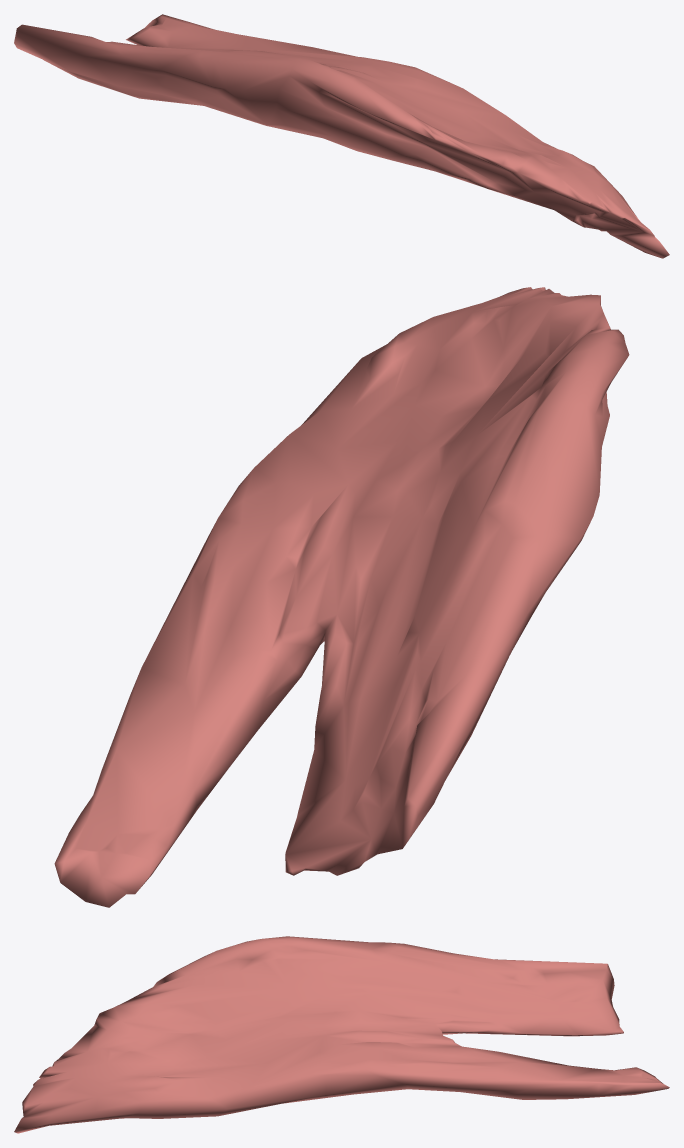
The picture shows the model from 3 angles, top to bottom: view 1: azimuth 30°, elevation 25°; view 2: azimuth 150°, elevation 25°; view 3: azimuth 270°, elevation 25°; orthographic projection. The views are drawn at different scales.
Visible parts, largest first — view 1: ZA_1233f9afe8dba9e7; view 2: ZA_1233f9afe8dba9e7; view 3: ZA_1233f9afe8dba9e7.
Boxes of the visible parts, x1,y1,x2,y2 form: ZA_1233f9afe8dba9e7: (14,14,669,258); ZA_1233f9afe8dba9e7: (54,287,629,907); ZA_1233f9afe8dba9e7: (14,936,669,1133).
Size of the model in its own units: 0.0356 by 0.017 by 0.0768.
